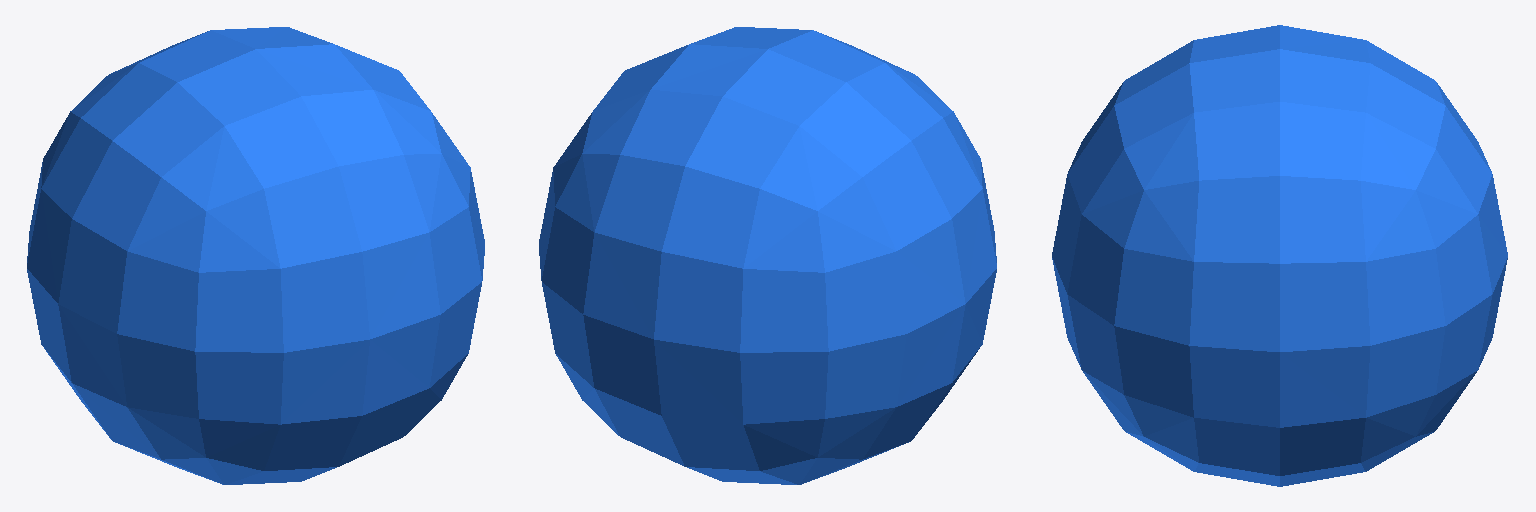
3 views of the same model, side by side, from view 1: azimuth 30°, elevation 25°; view 2: azimuth 150°, elevation 25°; view 3: azimuth 270°, elevation 25° (orthographic).
Visible parts, largest first — view 1: Cube; view 2: Cube; view 3: Cube.
Part boxes in pixels (x1,y1,x2,y2): Cube: (27,27,484,484); Cube: (539,27,996,484); Cube: (1052,25,1507,486).
Bounding box in the file's own units: 1.68 × 1.68 × 1.68.
1 materials, 1 textured.